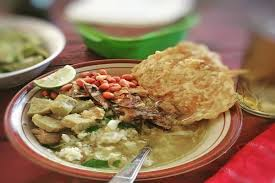soto: (12, 35, 249, 174)
